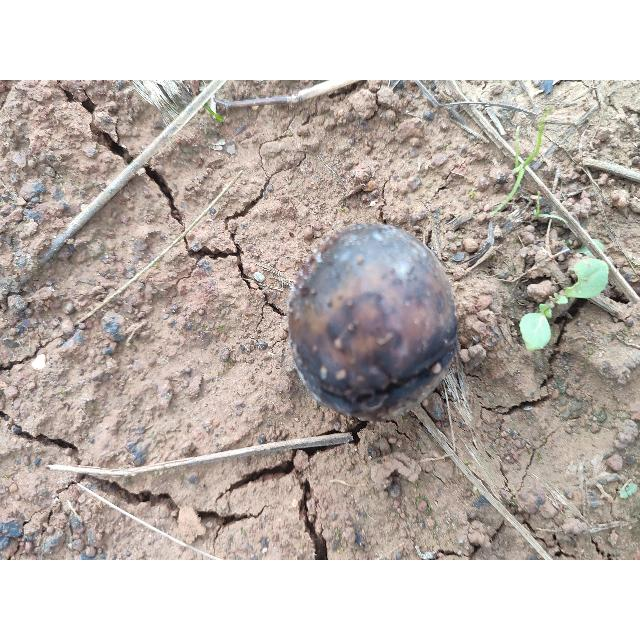damaged: (287, 224, 460, 423)
